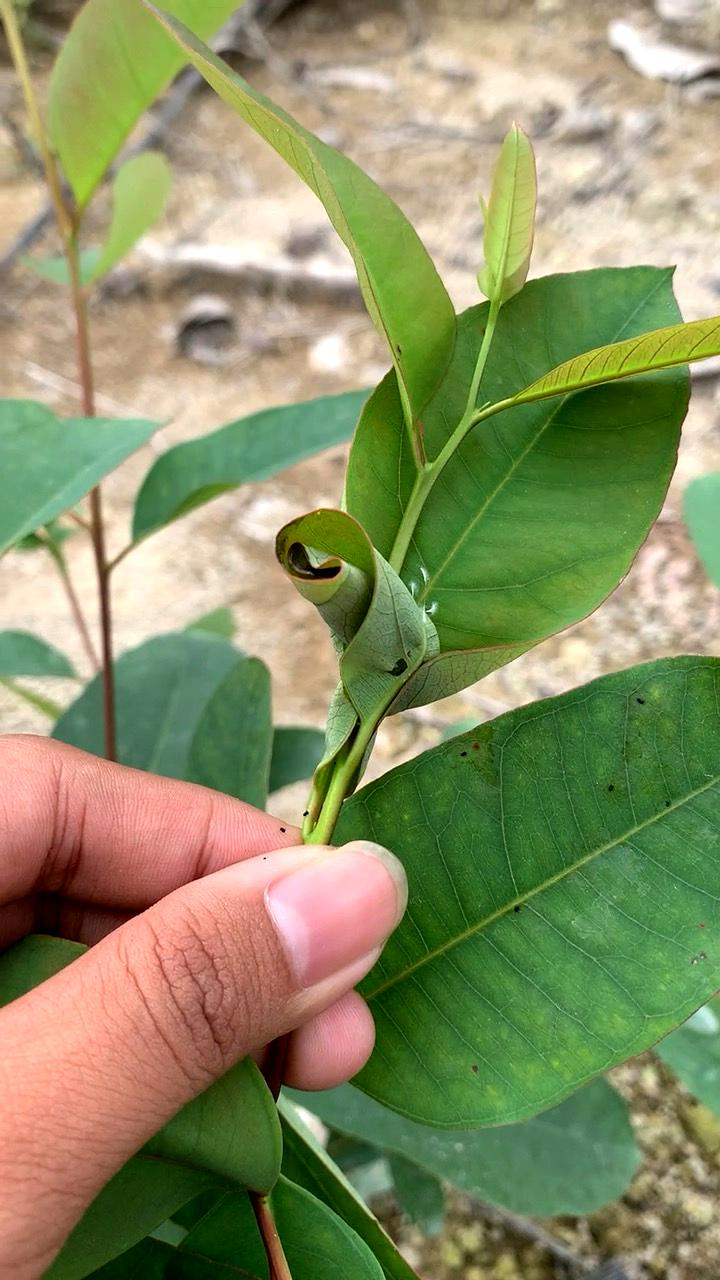Leaf Roller - Leaf: (228, 483, 463, 732)
